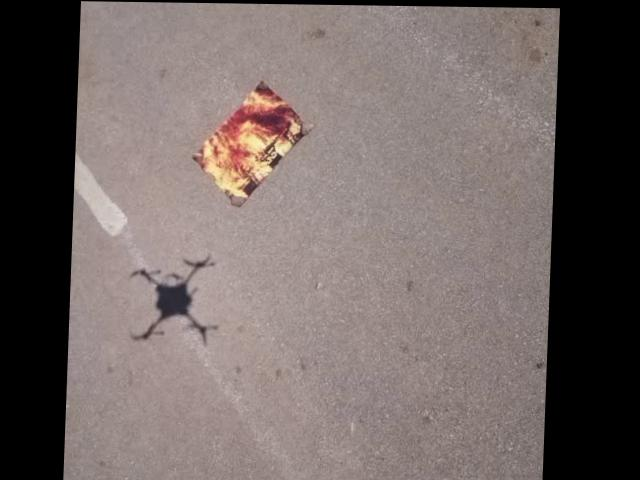fire-poster: (189, 78, 314, 209)
